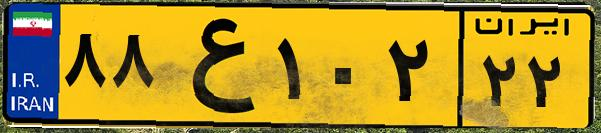0: (330, 28, 385, 110)
1: (270, 28, 330, 110)
2: (385, 28, 445, 110), (475, 38, 525, 113), (525, 38, 570, 115)
8: (57, 26, 110, 100), (110, 28, 158, 98)
ع: (158, 12, 270, 120)
